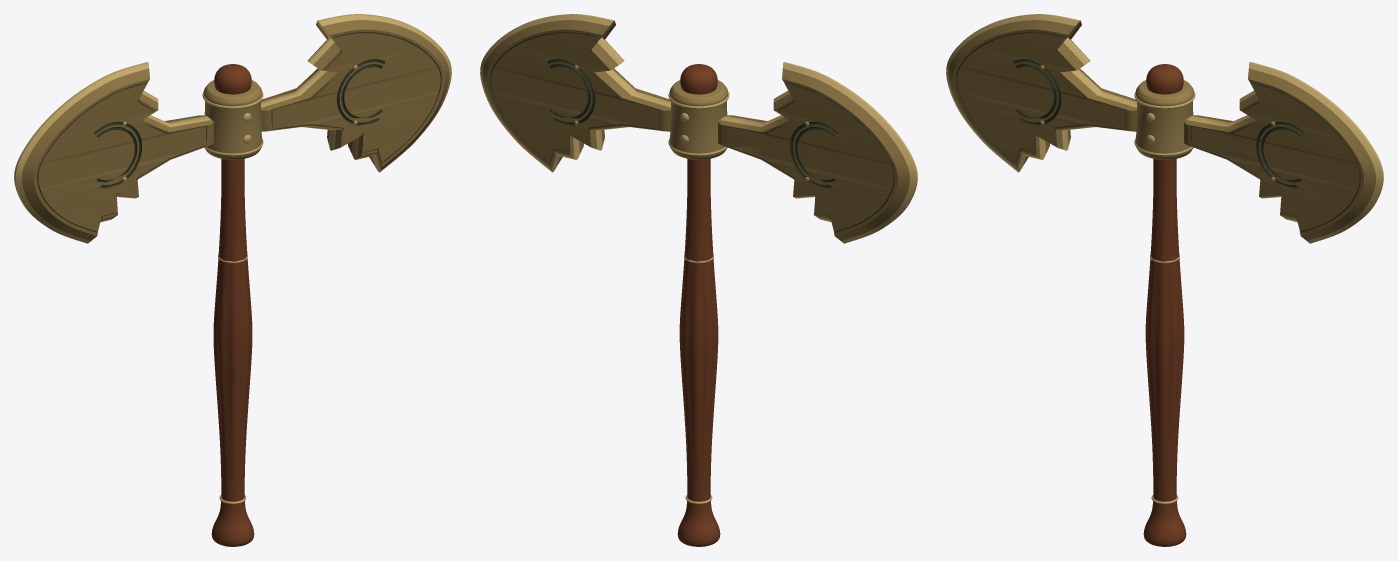
3 renders of one model, left to right at view 1: azimuth 30°, elevation 25°; view 2: azimuth 150°, elevation 25°; view 3: azimuth 330°, elevation 25°, orthographic.
Parts seen in each view (by area): view 1: TI064 / solid profiled crescent blade -1, TI064 / solid profiled crescent blade 1, TI064 / turned hardwood haft with tapered grip, TI064 / solid bronze head socket; view 2: TI064 / solid profiled crescent blade -1, TI064 / solid profiled crescent blade 1, TI064 / turned hardwood haft with tapered grip, TI064 / solid bronze head socket; view 3: TI064 / solid profiled crescent blade 1, TI064 / solid profiled crescent blade -1, TI064 / turned hardwood haft with tapered grip, TI064 / solid bronze head socket.
Boxes of the visible parts, <box> form: TI064 / solid profiled crescent blade -1: <box>14,62,213,243</box>; TI064 / solid profiled crescent blade 1: <box>261,14,451,172</box>; TI064 / turned hardwood haft with tapered grip: <box>211,64,254,546</box>; TI064 / solid bronze head socket: <box>203,80,262,159</box>; TI064 / solid profiled crescent blade -1: <box>718,62,917,243</box>; TI064 / solid profiled crescent blade 1: <box>480,14,670,172</box>; TI064 / turned hardwood haft with tapered grip: <box>677,64,720,546</box>; TI064 / solid bronze head socket: <box>669,80,728,159</box>; TI064 / solid profiled crescent blade 1: <box>1184,62,1383,243</box>; TI064 / solid profiled crescent blade -1: <box>946,14,1136,172</box>; TI064 / turned hardwood haft with tapered grip: <box>1143,64,1186,546</box>; TI064 / solid bronze head socket: <box>1135,80,1194,159</box>.
Bounding box in the file's own units: 2.72 × 2.98 × 0.33.
